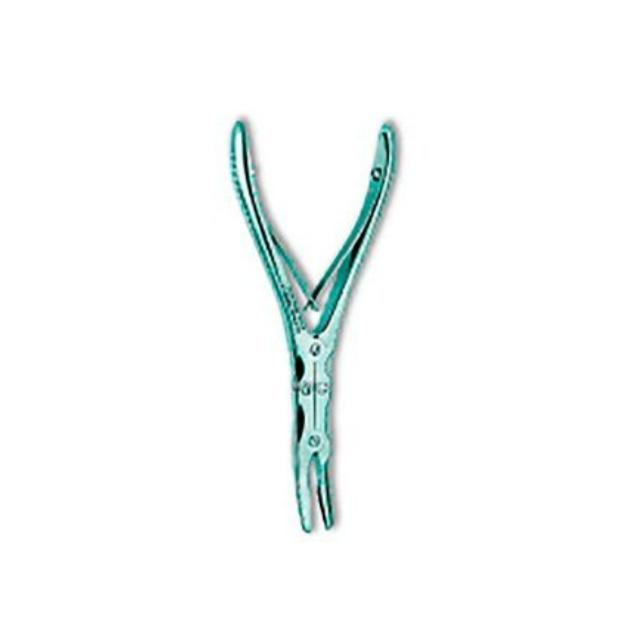gubia: (226, 116, 402, 537)
